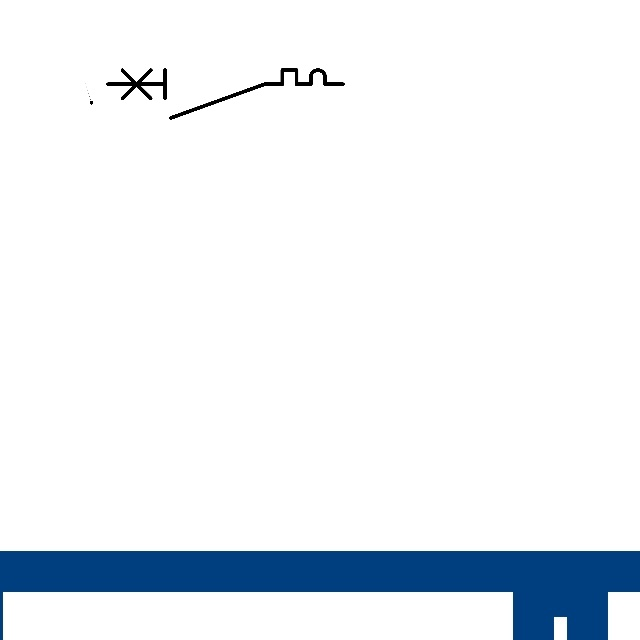interruptor_termomagnetico: (101, 64, 348, 124)
